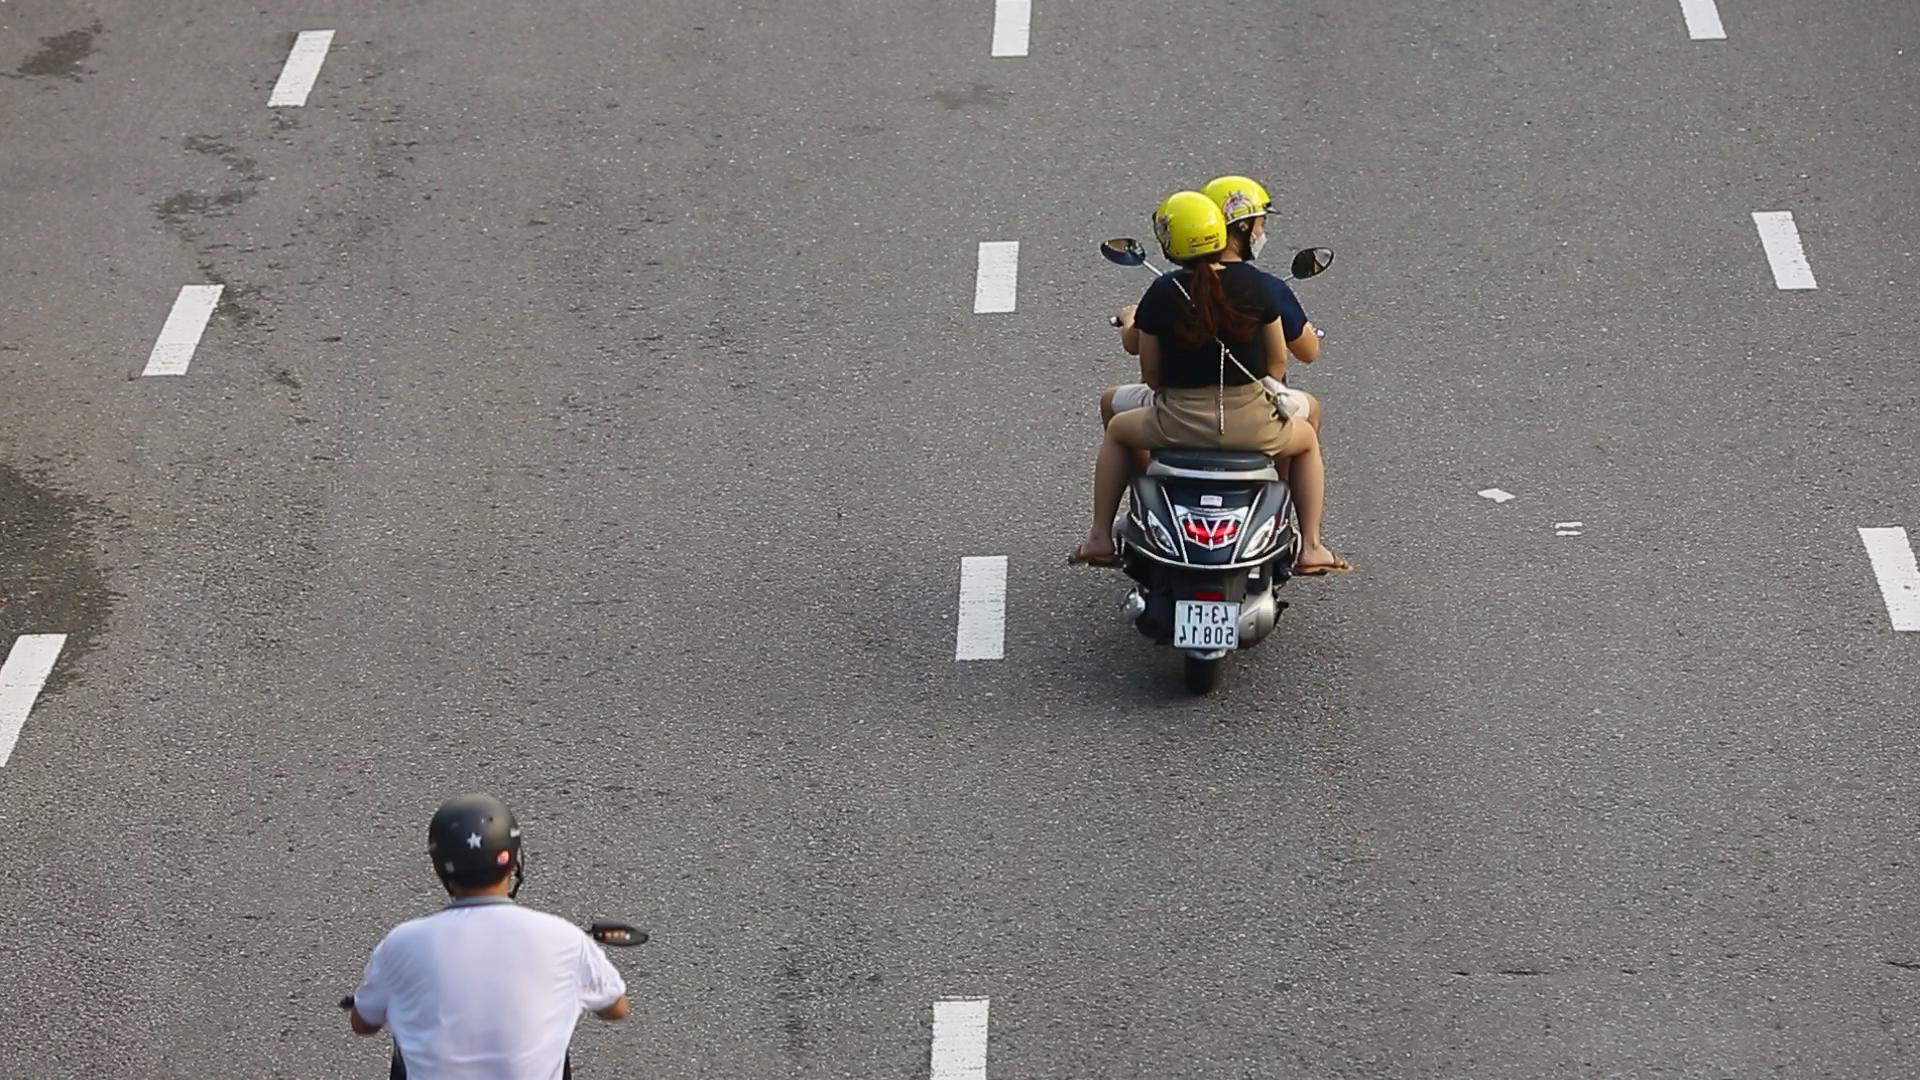motobike: (1052, 165, 1370, 699)
